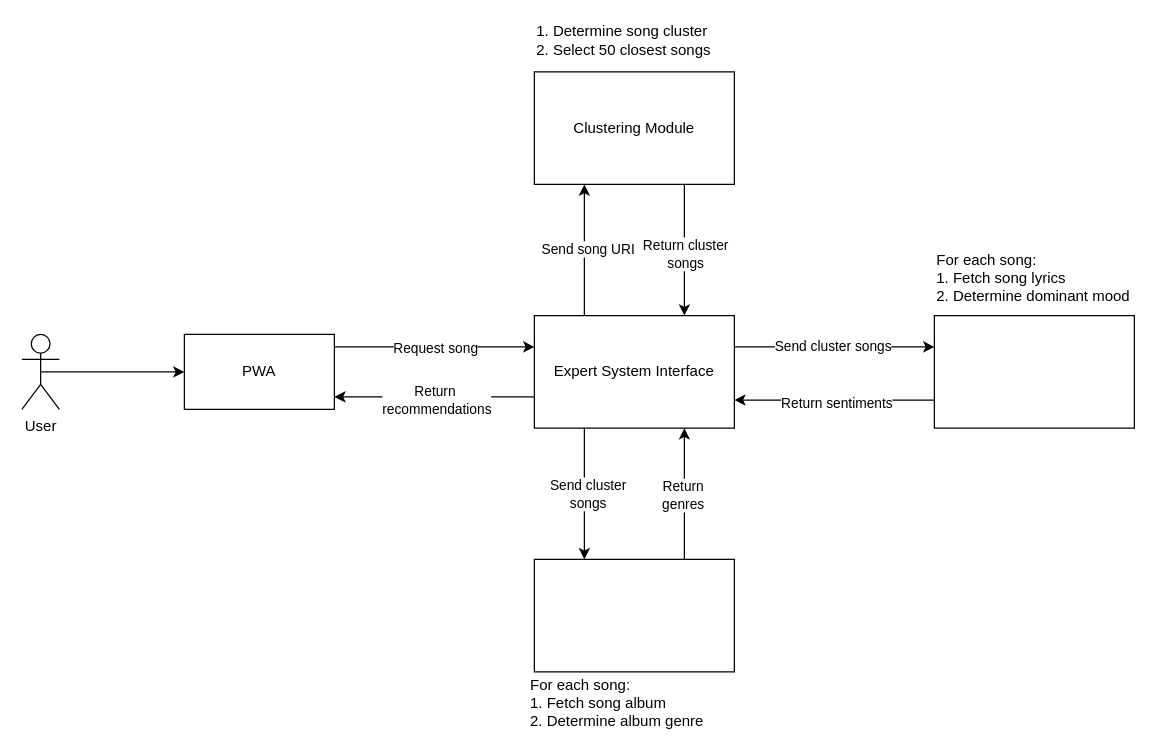
The diagram is 1169 pixels wide and 751 high, and some of its shapes have lost their labels. The box of each missing label's shape, as (x1, y1, x2, y2) in pixels:
Genre Detection Module: (533, 558, 734, 672)
Sentiment Analysis Module: (933, 314, 1134, 428)
